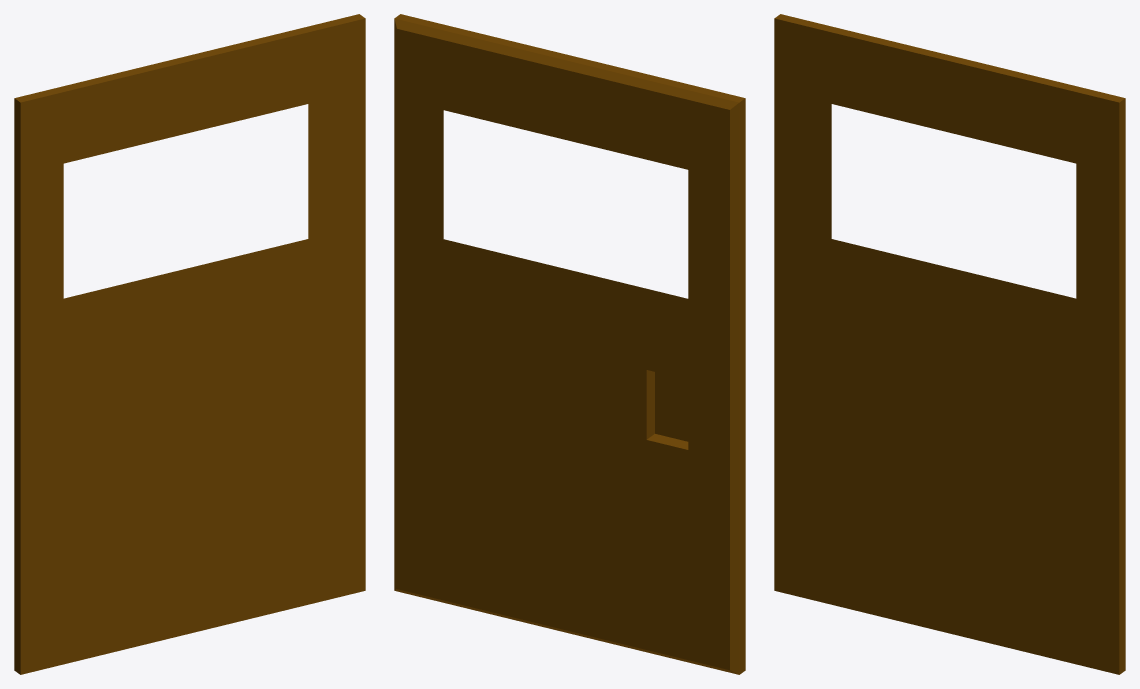
Rendered from tower_door.fbx.
3 views of the same model, side by side, from view 1: azimuth 30°, elevation 25°; view 2: azimuth 150°, elevation 25°; view 3: azimuth 330°, elevation 25° (orthographic).
Visible parts, largest first — view 1: Plane; view 2: Plane; view 3: Plane.
Boxes of the visible parts, <box> form: Plane: <box>14,14,365,674</box>; Plane: <box>394,14,745,674</box>; Plane: <box>774,14,1125,674</box>.
Bounding box in the file's own units: 573 × 908 × 28.32.
